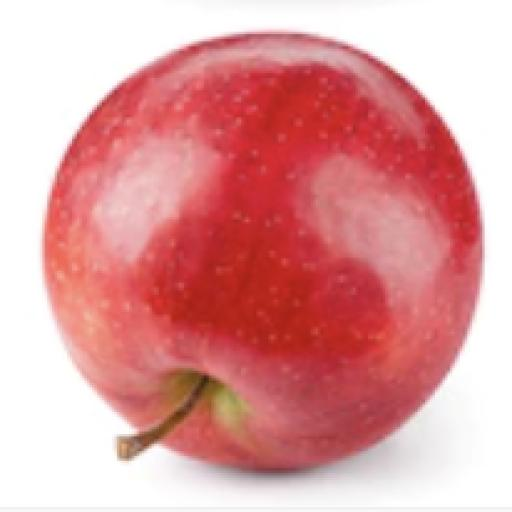apple: (45, 35, 482, 468)
